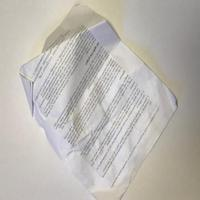paper: (16, 0, 179, 200)
